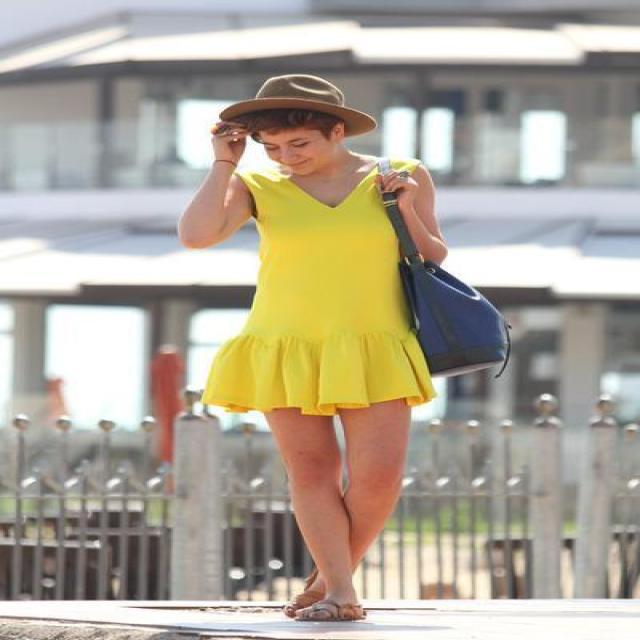bag: (382, 192, 502, 375)
dress: (200, 174, 440, 414)
hat: (264, 76, 336, 106)
